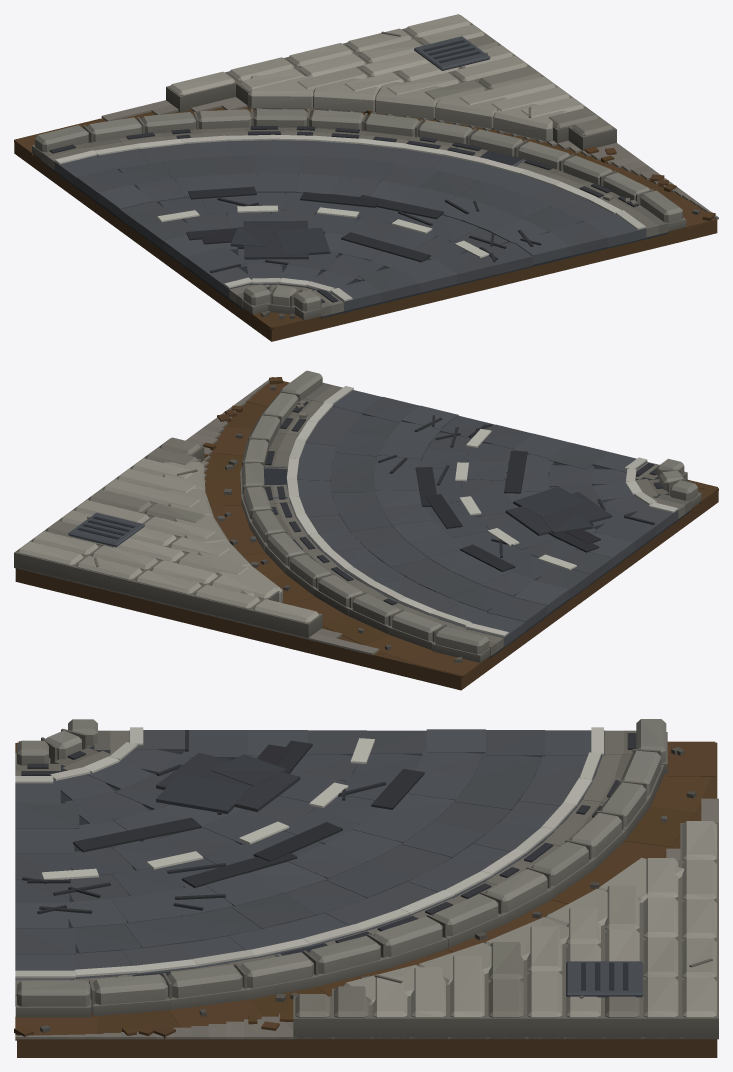
Rendered from road-corner-01.glb.
3 views of the same model, one above another, from view 1: azimuth 30°, elevation 25°; view 2: azimuth 150°, elevation 25°; view 3: azimuth 270°, elevation 25° (orthographic). The views are drawn at different scales.
Parts seen in each view (by area): view 1: road_corner_01; view 2: road_corner_01; view 3: road_corner_01.
Boxes of the visible parts, x1,y1,x2,y2 form: road_corner_01: (14, 14, 718, 341); road_corner_01: (14, 370, 718, 690); road_corner_01: (14, 719, 718, 1057).
Size of the model in its own units: 4 by 0.307 by 4.01.
